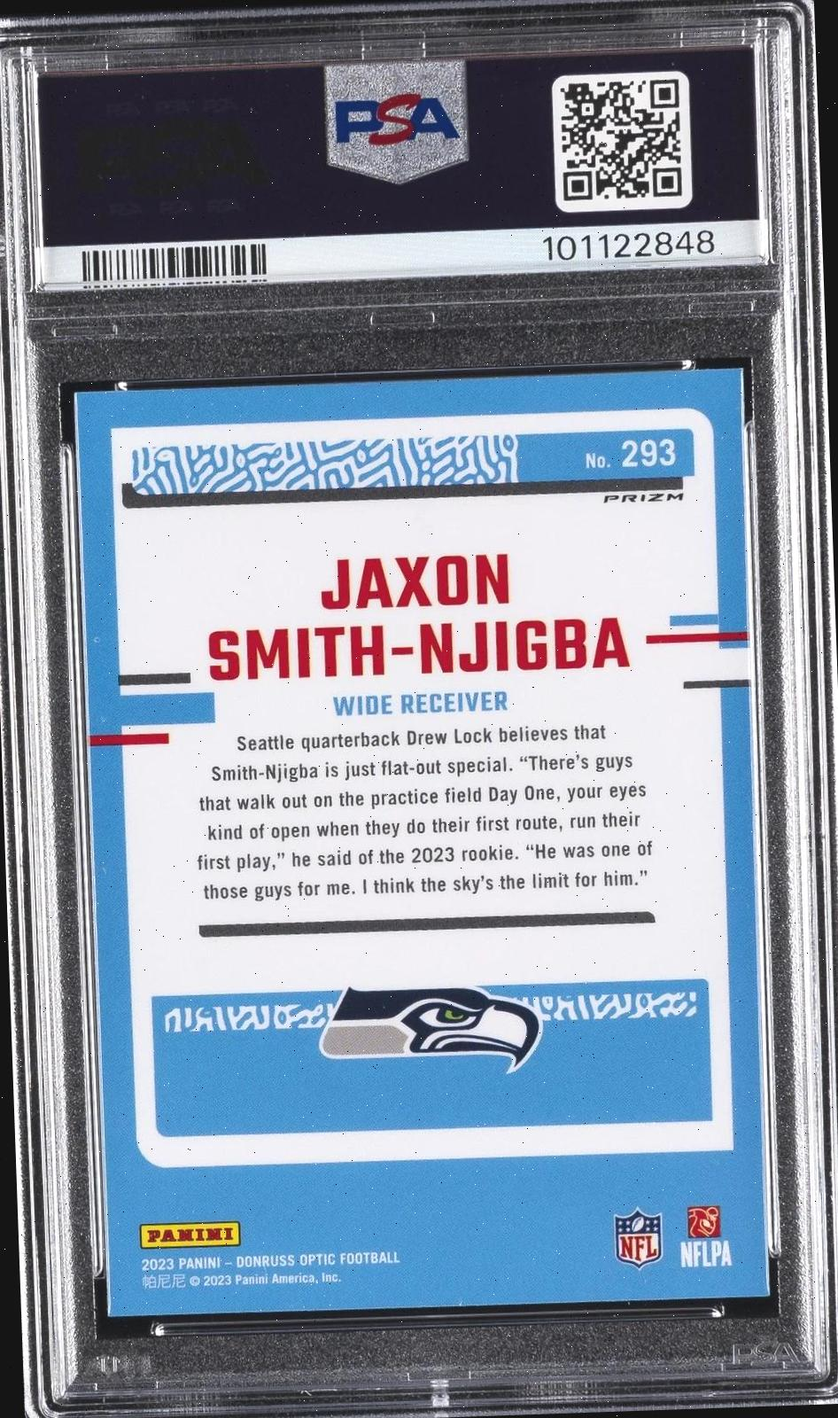card-2UtV: (73, 367, 770, 1318)
